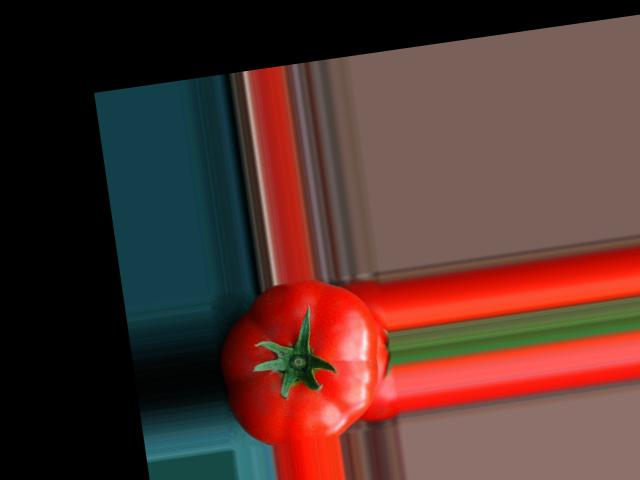tomato: (210, 270, 391, 450)
